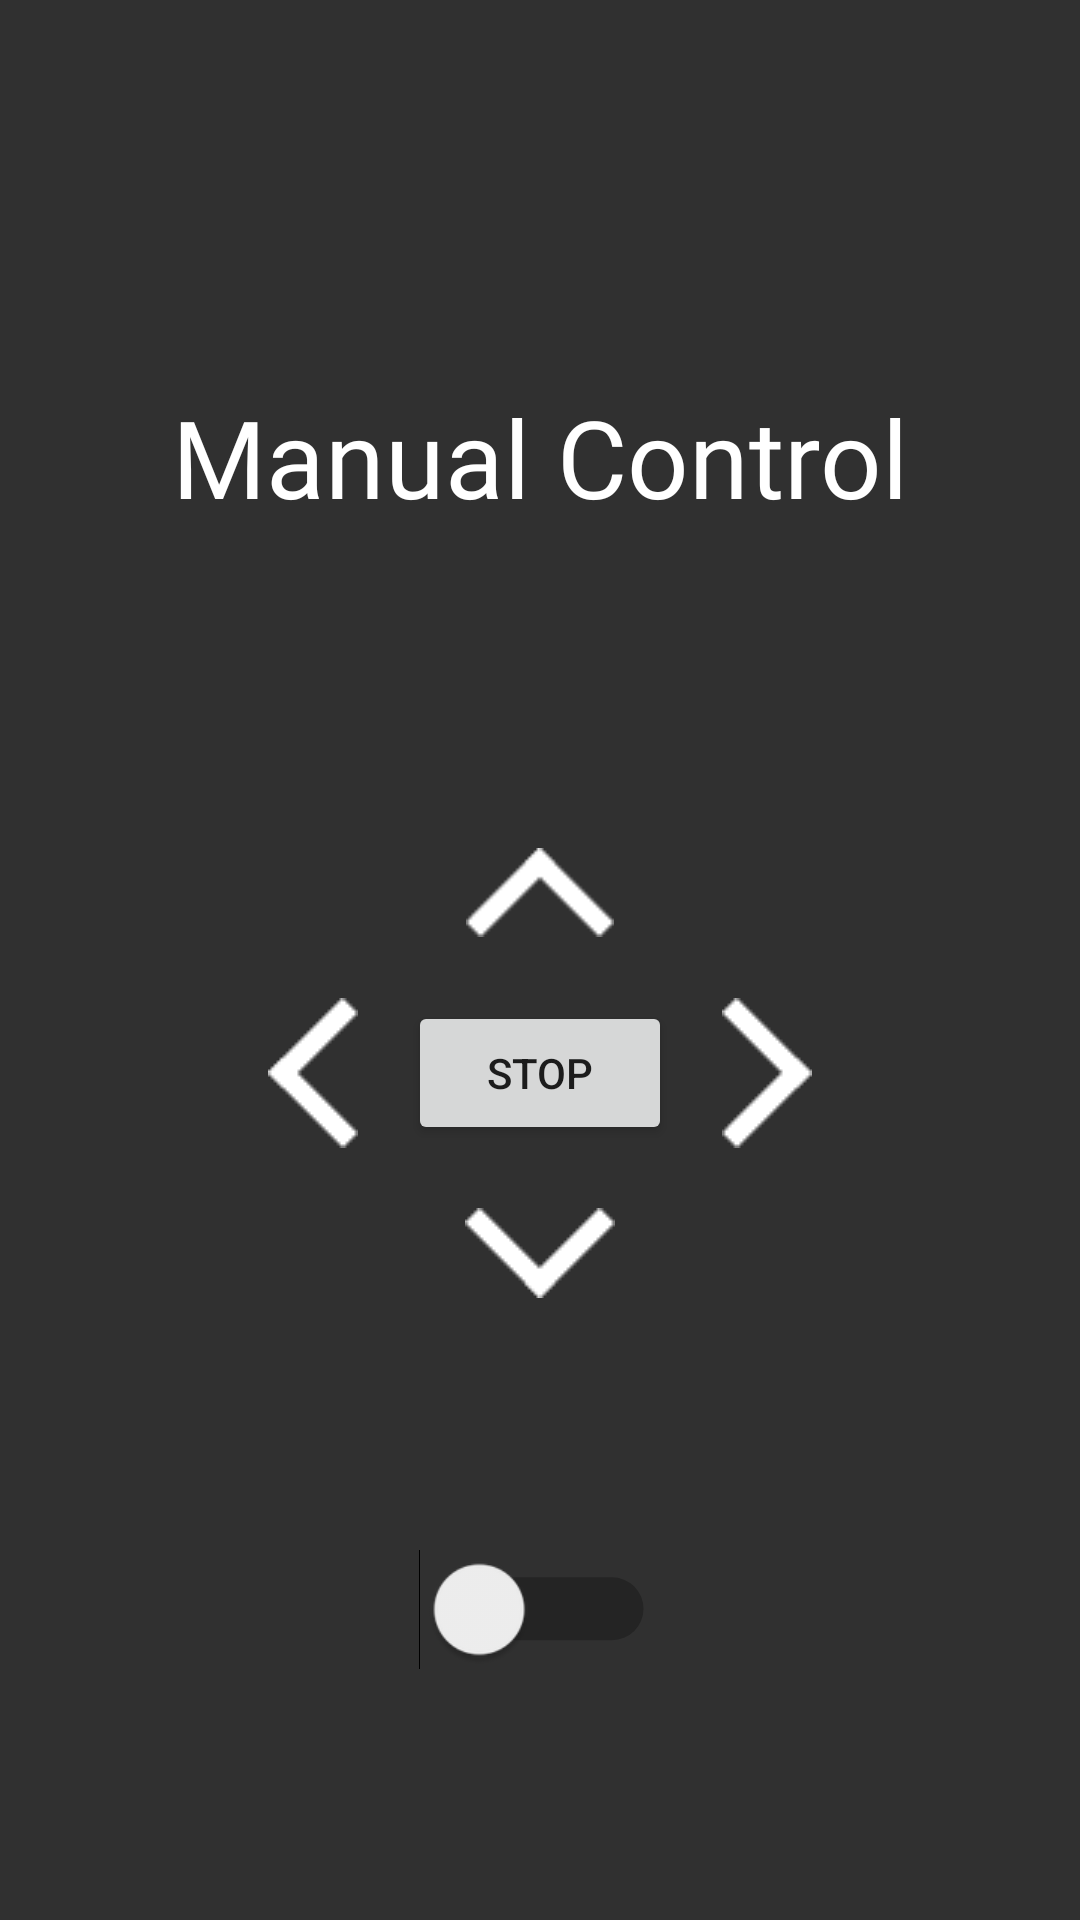

Screen size 1080*1920. Icon name, then its center in pixels as (x,y):
down: (540,1253)
left: (313,1073)
right: (767,1073)
